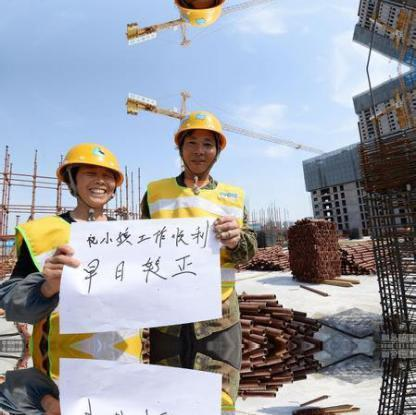helmet: (55, 145, 128, 191), (171, 103, 229, 151)
